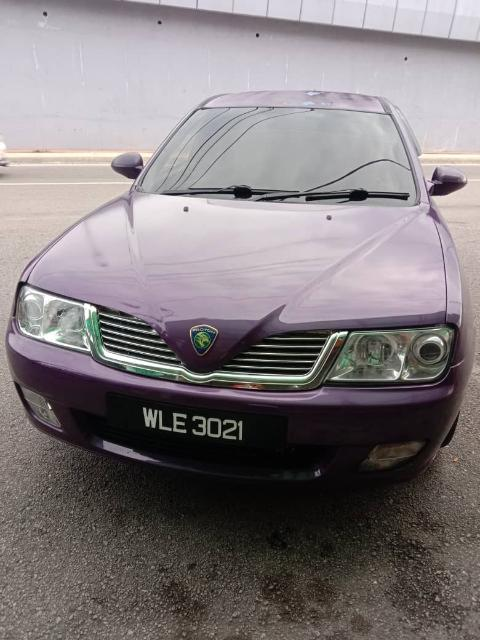License_Plate: (127, 397, 262, 461)
car: (8, 89, 480, 515)
